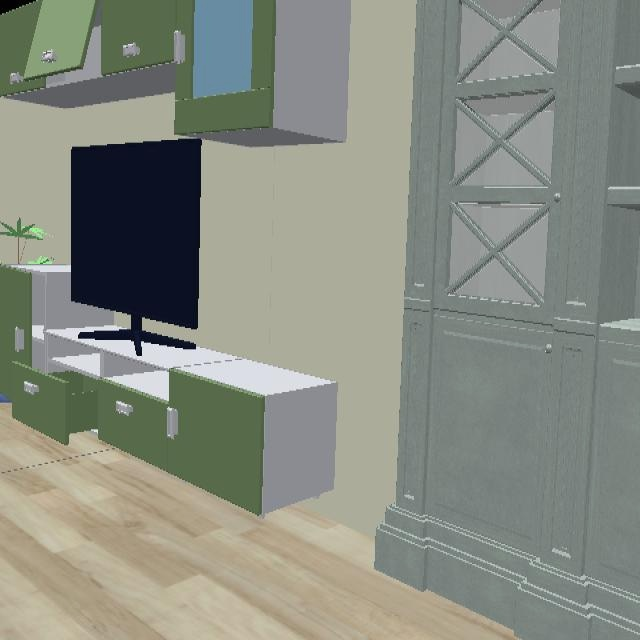bookshelf: (375, 0, 635, 601)
cabinet: (0, 264, 339, 517)
monitor: (70, 137, 203, 328)
